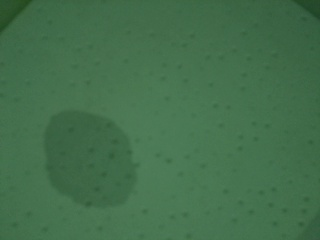Water_detected: (51, 126, 131, 197)
